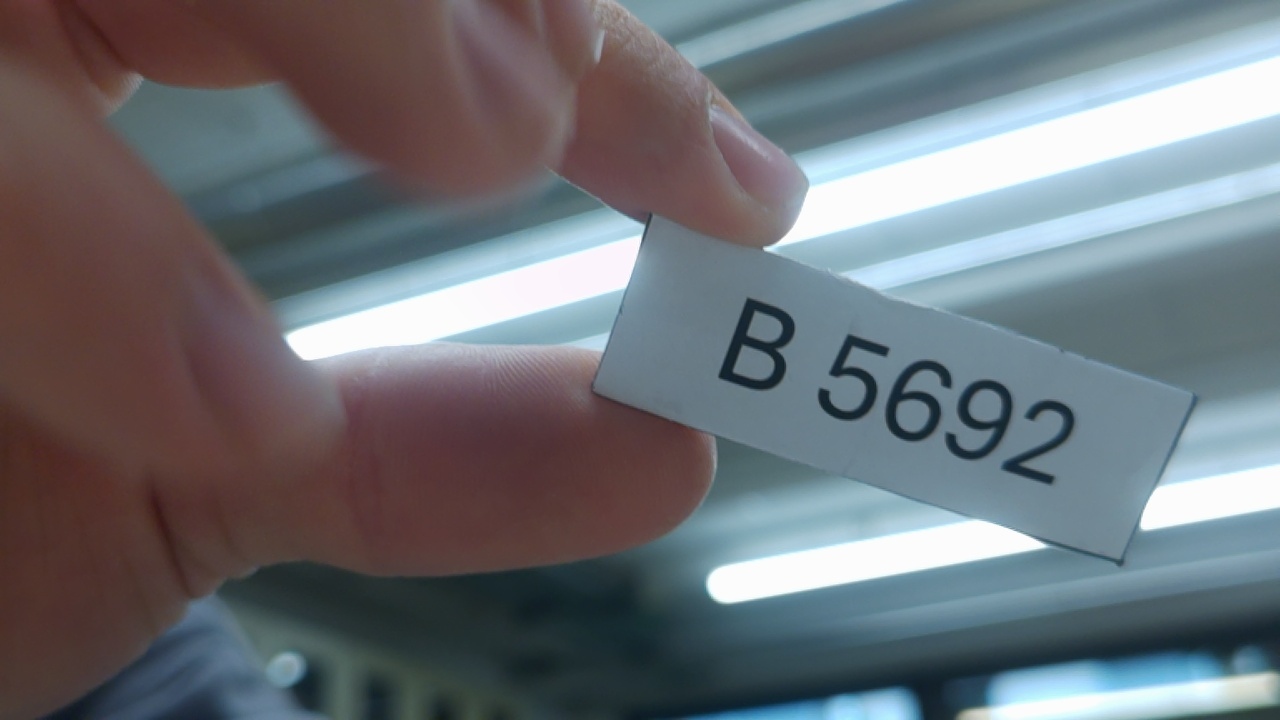license_plate: (589, 202, 1203, 594)
